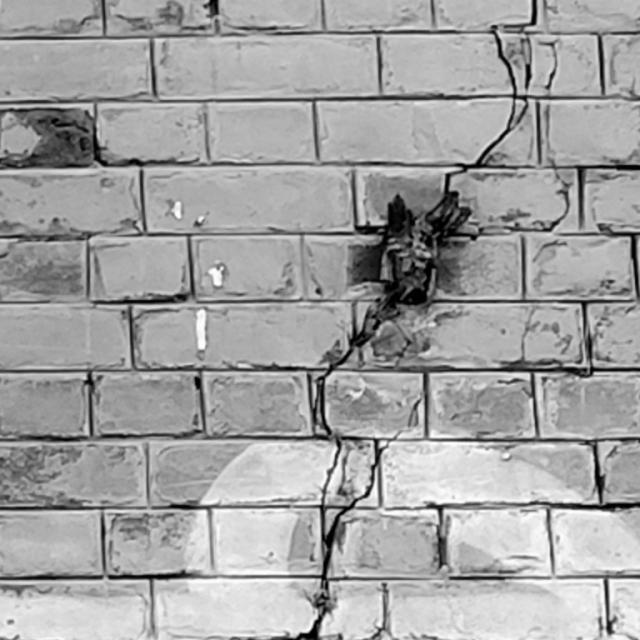crack: (300, 1, 538, 638), (535, 38, 573, 234)
